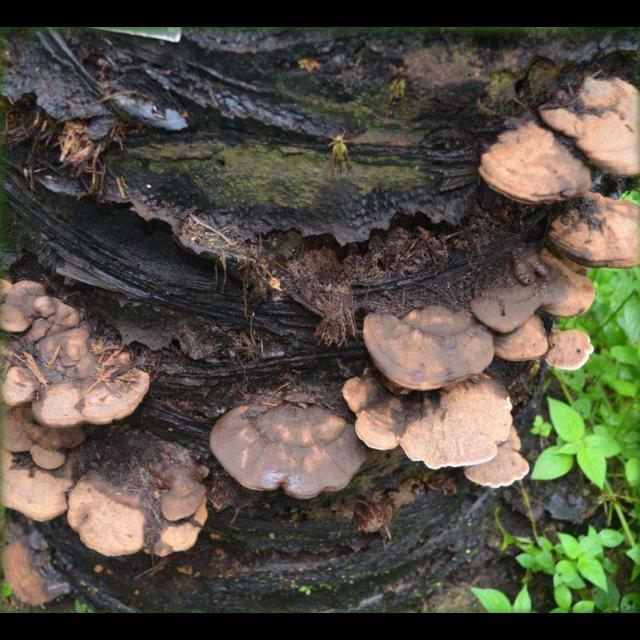ganoderma: (1, 280, 153, 433), (341, 367, 515, 472), (68, 438, 213, 560), (209, 398, 372, 503), (478, 118, 603, 213), (469, 248, 599, 337), (363, 310, 498, 395), (538, 71, 640, 182), (548, 193, 640, 274), (1, 405, 89, 474), (1, 469, 79, 525), (464, 451, 533, 492), (497, 313, 552, 363), (547, 330, 598, 374)
